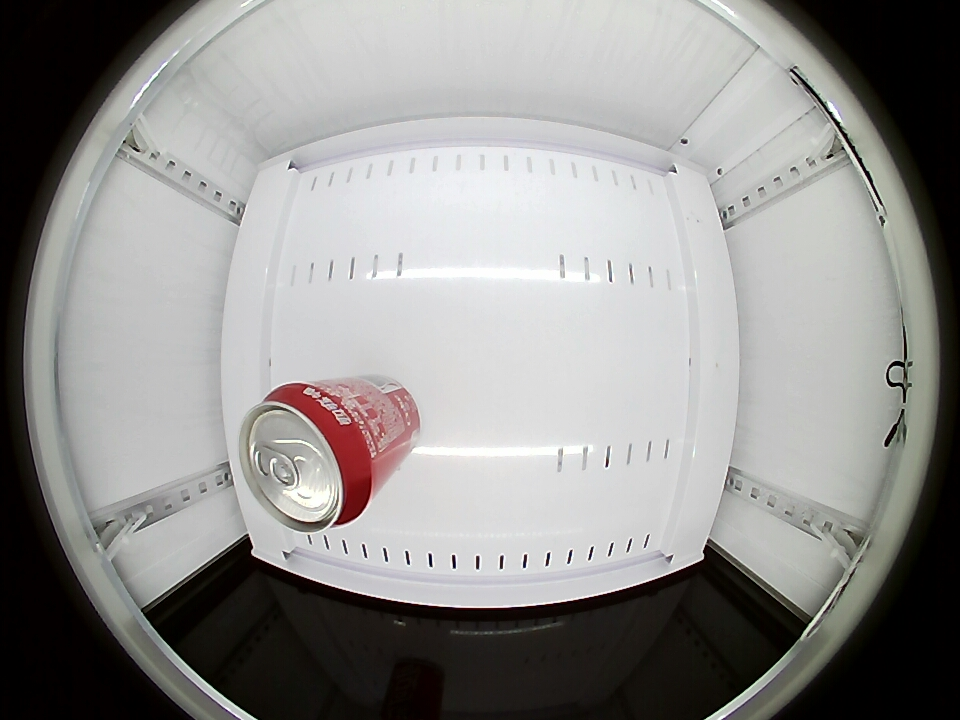kele: (238, 384, 377, 532)
